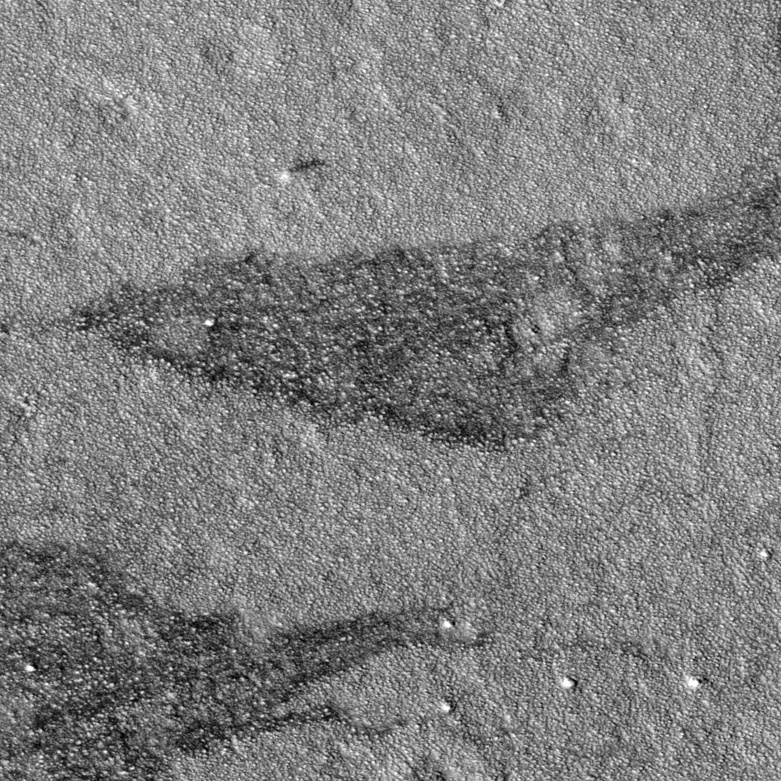dust_devil: (277, 155, 327, 184)
